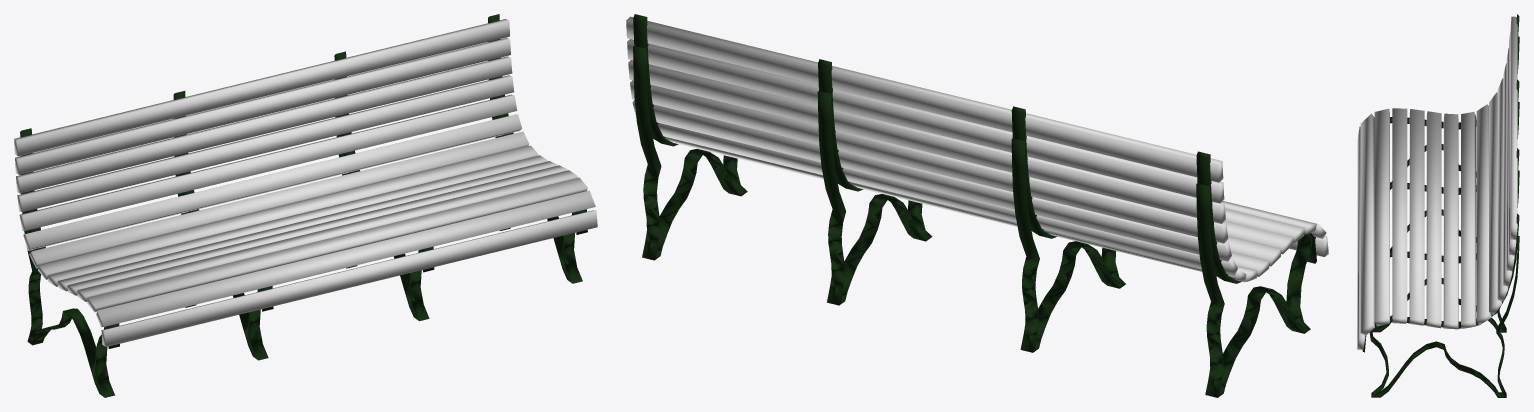
Rendered from bench_001.fbx.
3 views of the same model, side by side, from view 1: azimuth 30°, elevation 25°; view 2: azimuth 150°, elevation 25°; view 3: azimuth 270°, elevation 25° (orthographic). The views are drawn at different scales.
Parts seen in each view (by area): view 1: bench_001; view 2: bench_001; view 3: bench_001.
Part boxes in pixels (x1,y1,x2,y2): bench_001: (14, 14, 597, 397); bench_001: (626, 14, 1328, 397); bench_001: (1357, 14, 1519, 397).
Size of the model in its own units: 1.28 by 0.5153 by 0.4199.
